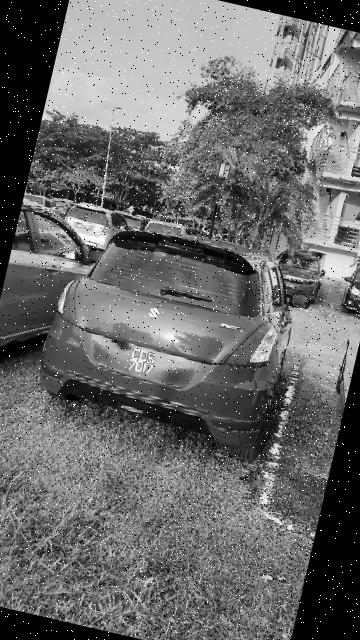License_Plate: (85, 328, 210, 396)
car: (30, 212, 310, 461)
